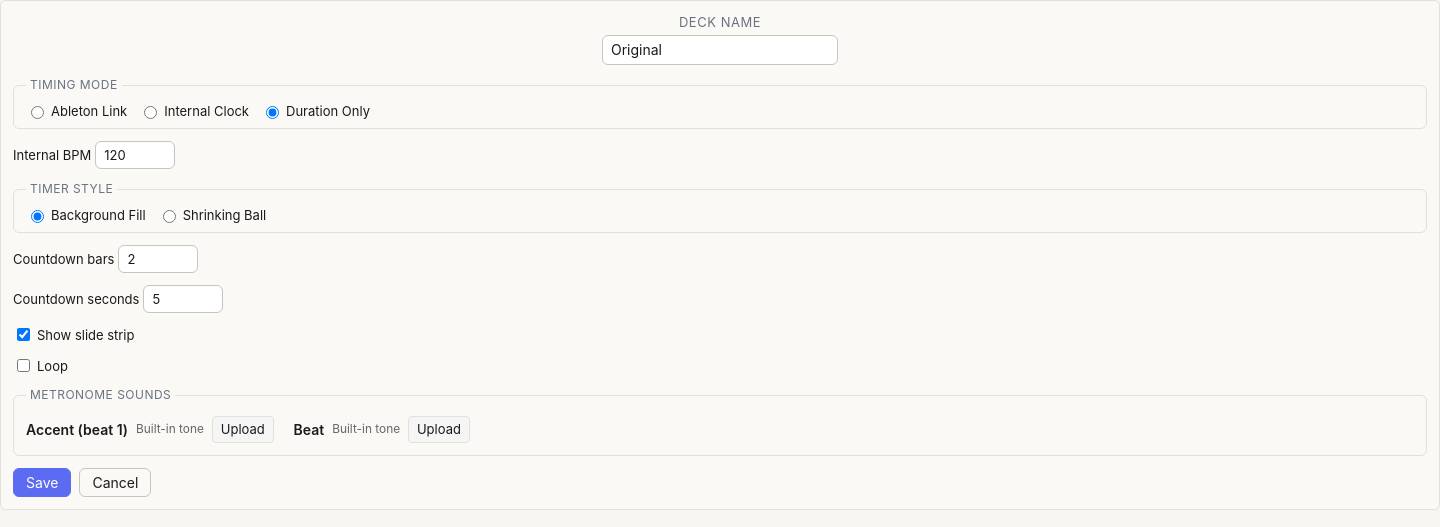
Scenario: DeckSettings › deck name › Cancel reverts the name to the persisted value
Replace the text in the field labelled "Deck name" with "Half-renamed" at x=720, y=50, box [602, 35, 838, 65]
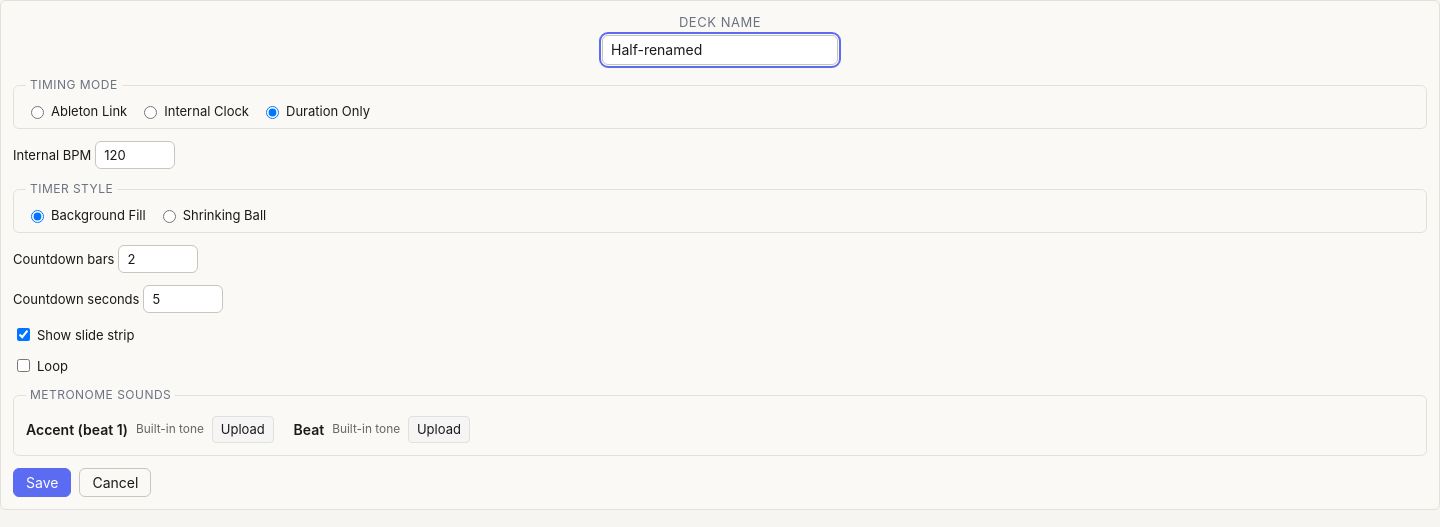
Click the button "Cancel" at x=115, y=483, box [79, 468, 151, 497]
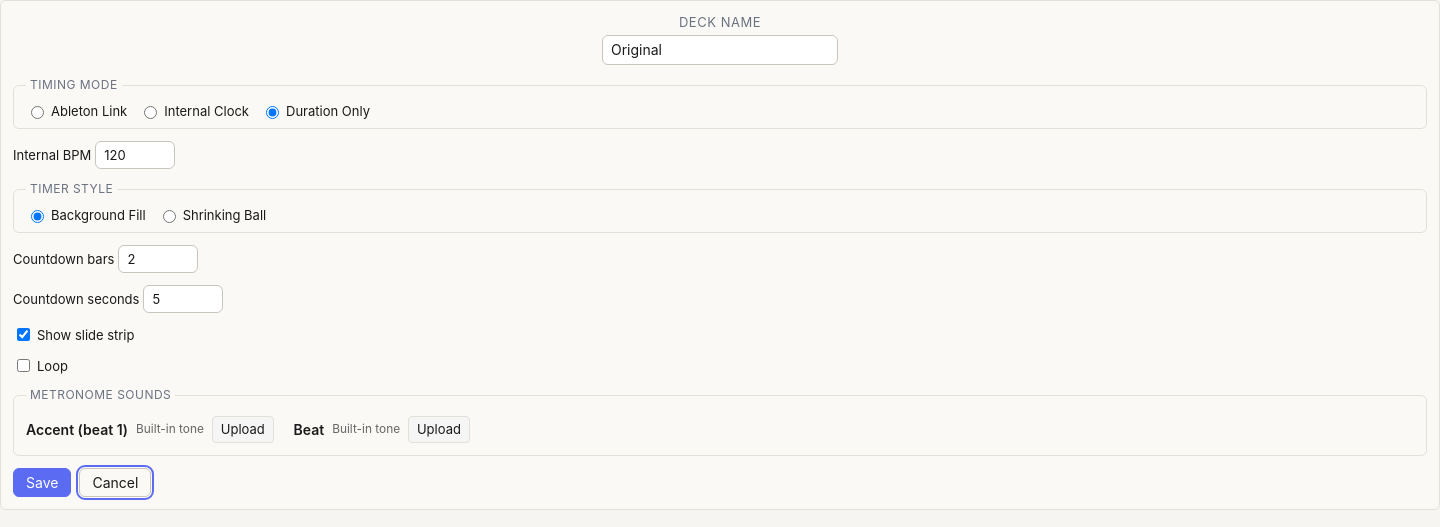
Now the field labelled "Deck name" holds "Original", box [602, 35, 838, 65]
